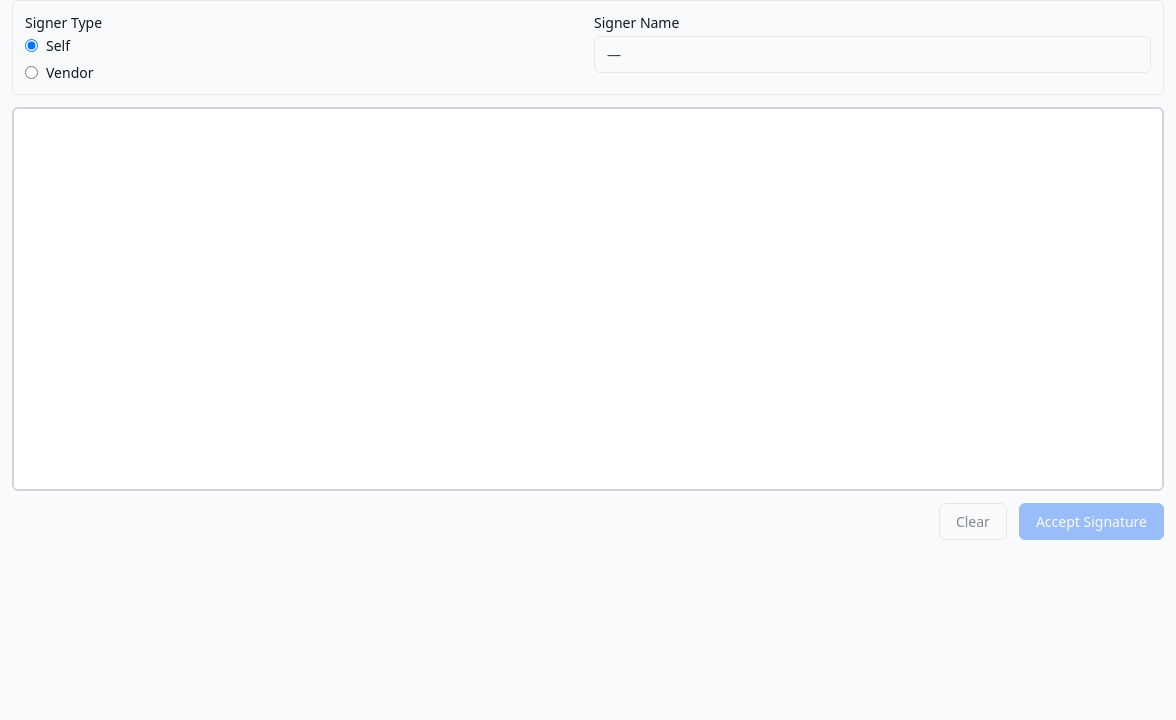
Test case: SignatureCapture › drawing interaction › Clear button resets hasStrokes and re-disables Accept
The image size is (1176, 720).
Press the mouse on the drawing named "Signature canvas" at (588, 299), box [14,109,1162,489]
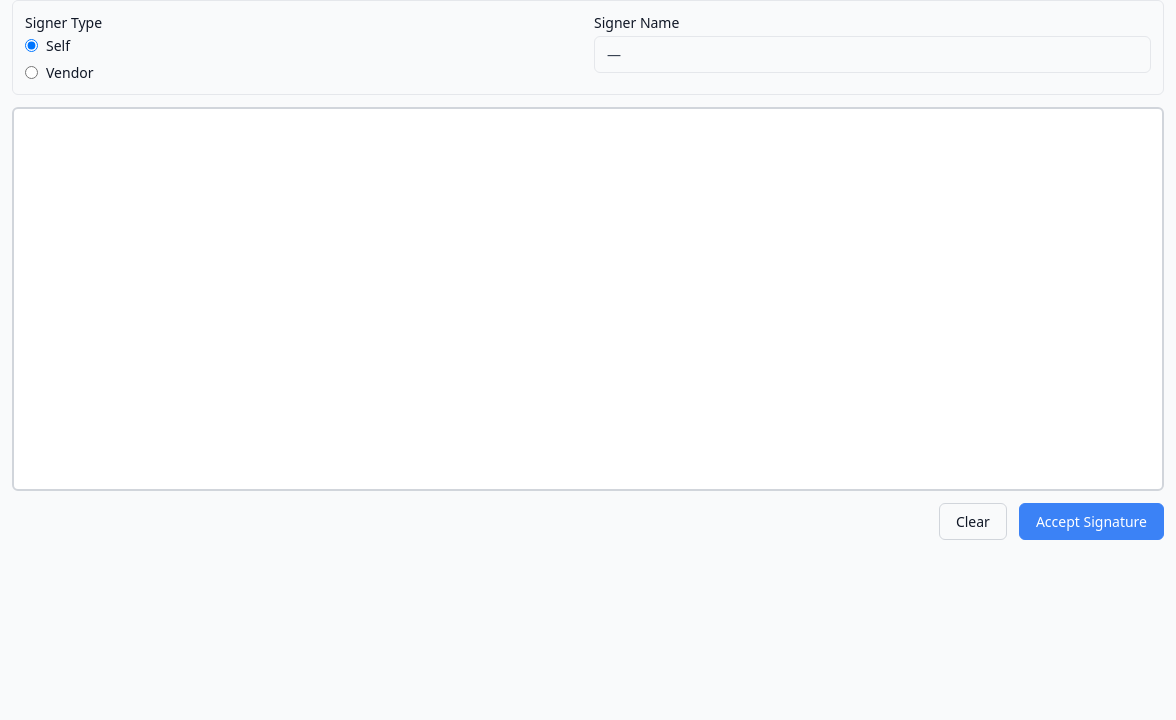
Check: the button "Accept Signature" is enabled, box [1019,503,1164,540]
Click the button "Clear" at (973, 522), box [939,503,1007,540]
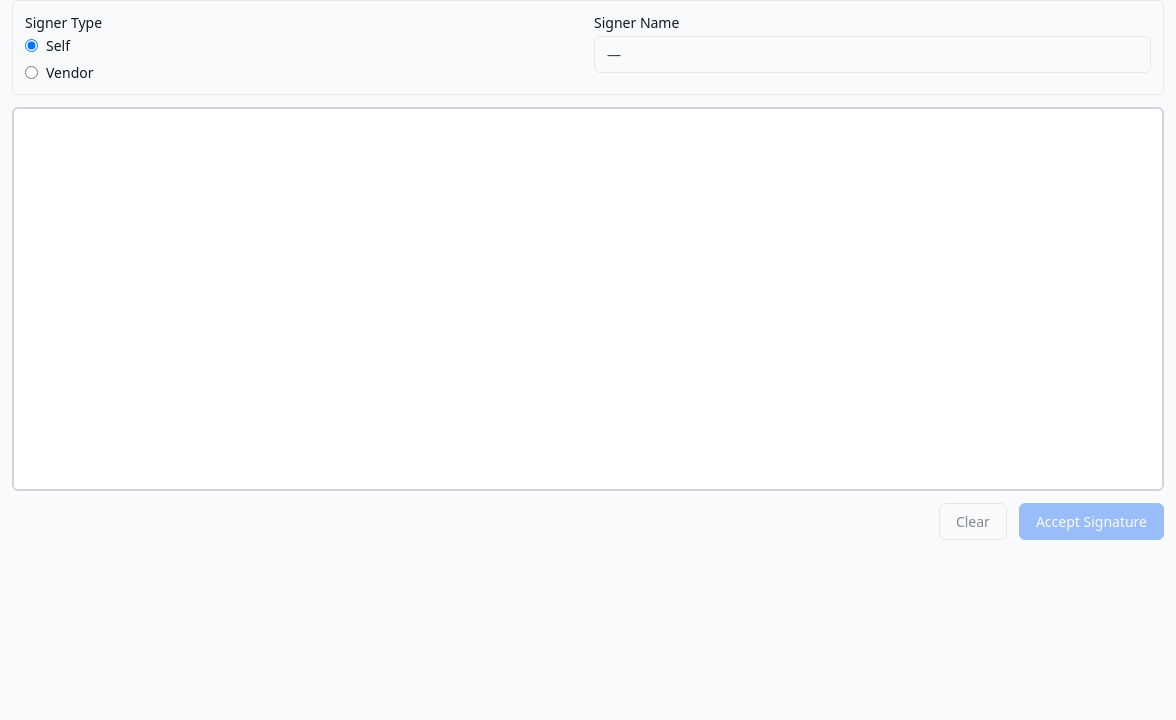
Check: the button "Accept Signature" is disabled, box [1019,503,1164,540]
